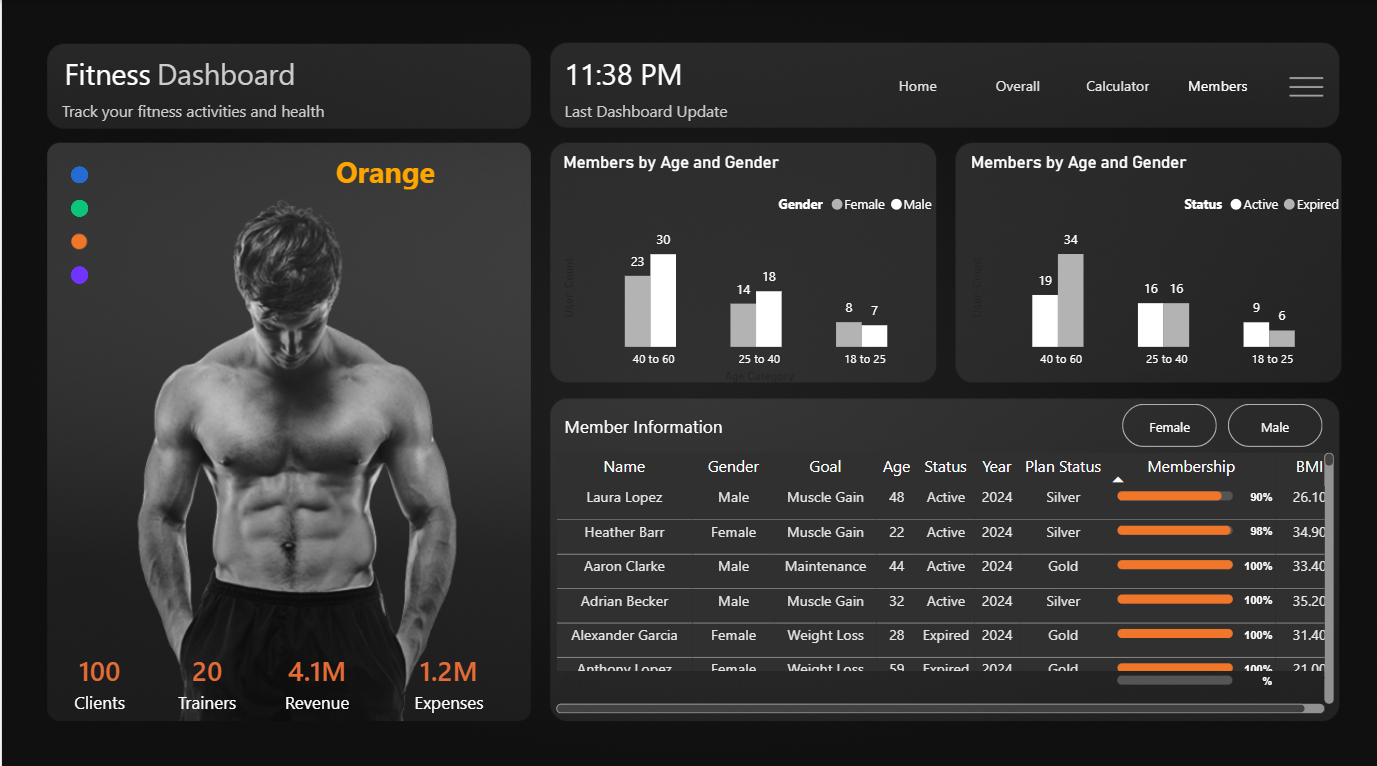

Layout of this report page (visuals, bound fields, positions):
{"tool":"powerbi","page":{"name":"Members","canvas":[1280,720],"ordinal":3},"visuals":[{"type":"cardVisual","fields":{"Data":["_Measure.User_Count"]},"box":[31.6,590.1,119.4,91.9],"z":0},{"type":"cardVisual","fields":{"Data":["Count(Users.Trainer Name)"]},"box":[131.7,588.7,119.4,93.3],"z":1000},{"type":"cardVisual","fields":{"Data":["_Measure.Revenue"]},"box":[233.3,590.1,119.4,91.9],"z":2000},{"type":"cardVisual","fields":{"Data":["_Measure.Expenses"]},"box":[352.7,590.1,127.6,91.9],"z":3000},{"type":"tableEx","fields":{"Values":["Users.UserName","Users.Gender","Users.Goal","Users.Age","Users.Status","Users.JoinDate.Variation.Date Hierarchy.Year","Users.Membership","_Measure.SVG_BarChart1","Sum(Users.BMI)"]},"box":[509.3,416.3,734.9,252.3],"z":4000},{"type":"shape","box":[57.6,48,149.6,39.8],"z":5000},{"type":"shape","box":[144.1,48,149.6,39.8],"z":6000},{"type":"shape","box":[56.3,87.8,318.4,30.2],"z":7000},{"type":"image","box":[1193.8,60.4,39.8,42.5],"z":8000},{"type":"shape","box":[522.8,48,116.6,39.8],"z":9000},{"type":"shape","box":[522.8,87.8,171.5,30.2],"z":10000},{"type":"pageNavigator","box":[810.5,55.8,365.1,47.7],"z":11000},{"type":"shape","box":[523.3,376.7,160.5,39.5],"z":12000},{"type":"advancedSlicerVisual","fields":{"Values":["Users.Gender"]},"box":[1037.2,370.9,196.5,50],"z":13000},{"type":"clusteredColumnChart","title":"Members by Age and Gender","fields":{"Y":["_Measure.User_Count"],"Category":["Users.Age Category"],"Series":["Users.Gender"]},"box":[517.4,141.9,357,218.6],"z":14000},{"type":"clusteredColumnChart","title":"Members by Age and Gender","fields":{"Y":["_Measure.User_Count"],"Category":["Users.Age Category"],"Series":["Users.Status"]},"box":[896.5,141.9,357,218.6],"z":15000},{"type":"advancedSlicerVisual","fields":{"Values":["ColorCodes.Color"],"Label":["Min(ColorCodes.Icon)"]},"box":[53.5,146.5,37.2,126.7],"z":16000},{"type":"shape","box":[310.5,131.4,95.3,54.7],"z":17000}]}

Visuals, with their boxes in screenshot pixels (x1, y1, x2, y2), scaled from the page's 1280x720 canvas onto the 1377x766 screenshot:
cardVisual - _Measure.User_Count: 34,628,162,726
cardVisual - Count(Users.Trainer Name): 142,626,270,726
cardVisual - _Measure.Revenue: 251,628,379,726
cardVisual - _Measure.Expenses: 379,628,517,726
tableEx - Users.UserName x Users.Gender: 548,443,1338,711
shape: 62,51,223,93
shape: 155,51,316,93
shape: 61,93,403,126
image: 1284,64,1327,109
shape: 562,51,688,93
shape: 562,93,747,126
pageNavigator: 872,59,1265,110
shape: 563,401,736,443
advancedSlicerVisual - Users.Gender: 1116,395,1327,448
"Members by Age and Gender" clusteredColumnChart: 557,151,941,384
"Members by Age and Gender" clusteredColumnChart: 964,151,1348,384
advancedSlicerVisual - ColorCodes.Color x Min(ColorCodes.Icon): 58,156,98,291
shape: 334,140,437,198
